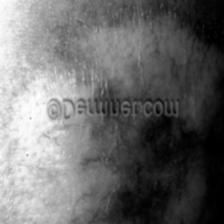Non-Cancerous Skin Condition: (4, 133, 224, 224), (28, 17, 224, 93)
